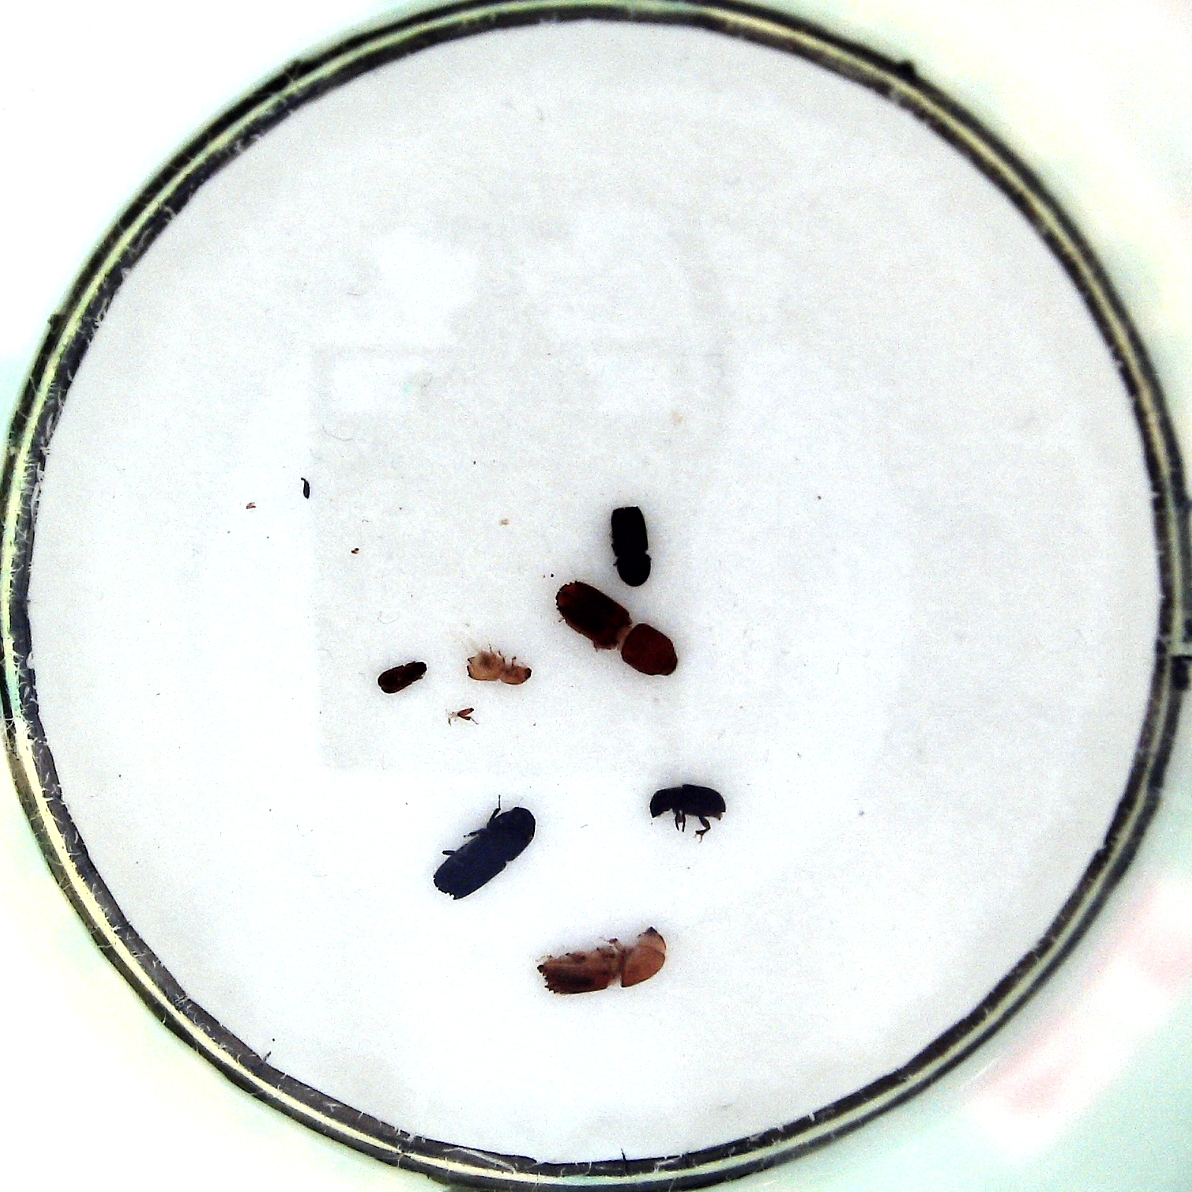Boerner: (552, 579, 680, 677), (534, 925, 667, 997), (432, 804, 534, 897)
Linnaeus: (608, 500, 657, 591)
acuminatus: (465, 644, 537, 689)
armandi: (649, 780, 727, 835)
coleoptera: (376, 658, 431, 699)
